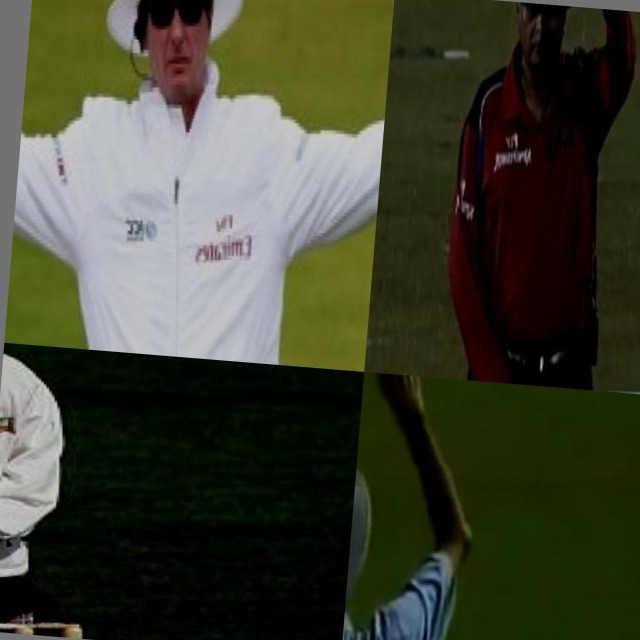No_Action: (0, 343, 183, 640)
Out: (402, 0, 640, 394)
Six: (341, 372, 524, 640)
Wide: (4, 0, 395, 372)
